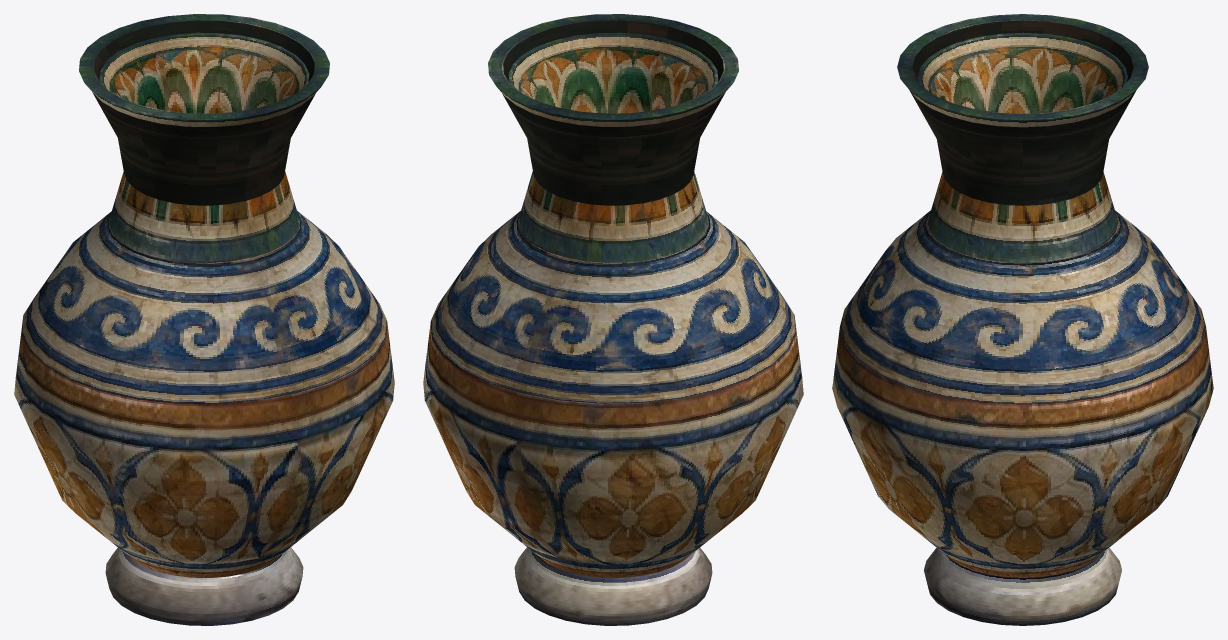
Rendered from vase_painted.glb.
3 views of the same model, side by side, from view 1: azimuth 30°, elevation 25°; view 2: azimuth 150°, elevation 25°; view 3: azimuth 270°, elevation 25° (orthographic).
Parts seen in each view (by area): view 1: body, piece_12, piece_07, piece_06, piece_08, piece_10, piece_05, piece_11, piece_09, piece_01; view 2: body, piece_10, piece_08, piece_11, piece_05, piece_04, piece_09, piece_07, piece_12, piece_03; view 3: body, piece_08, piece_11, piece_09, piece_02, piece_10, piece_12, piece_07, piece_01, piece_03.
Part boxes in pixels (x1=…): body: x1=14, y1=14, x2=391, y2=625; piece_12: x1=104, y1=106, x2=247, y2=423; piece_07: x1=231, y1=96, x2=378, y2=424; piece_06: x1=102, y1=400, x2=247, y2=624; piece_08: x1=243, y1=22, x2=393, y2=387; piece_10: x1=72, y1=14, x2=197, y2=243; piece_05: x1=15, y1=330, x2=163, y2=618; piece_11: x1=21, y1=59, x2=158, y2=398; piece_09: x1=189, y1=14, x2=267, y2=113; piece_01: x1=212, y1=403, x2=383, y2=624; body: x1=423, y1=14, x2=803, y2=625; piece_10: x1=480, y1=96, x2=656, y2=427; piece_08: x1=424, y1=14, x2=625, y2=374; piece_11: x1=637, y1=71, x2=796, y2=420; piece_05: x1=599, y1=340, x2=803, y2=625; piece_04: x1=479, y1=420, x2=637, y2=625; piece_09: x1=434, y1=65, x2=549, y2=418; piece_07: x1=622, y1=14, x2=686, y2=113; piece_12: x1=659, y1=26, x2=796, y2=334; piece_03: x1=423, y1=384, x2=564, y2=613; body: x1=832, y1=14, x2=1208, y2=625; piece_08: x1=877, y1=87, x2=1108, y2=461; piece_11: x1=969, y1=15, x2=1101, y2=113; piece_09: x1=1061, y1=86, x2=1202, y2=435; piece_02: x1=877, y1=422, x2=1108, y2=624; piece_10: x1=1067, y1=26, x2=1209, y2=385; piece_12: x1=887, y1=24, x2=991, y2=248; piece_07: x1=840, y1=59, x2=950, y2=420; piece_01: x1=832, y1=378, x2=976, y2=618; piece_03: x1=1058, y1=387, x2=1204, y2=621.
Bounding box in the file's own units: 0.4 × 0.6 × 0.4.
Materials: 1 (1 with a texture image).
